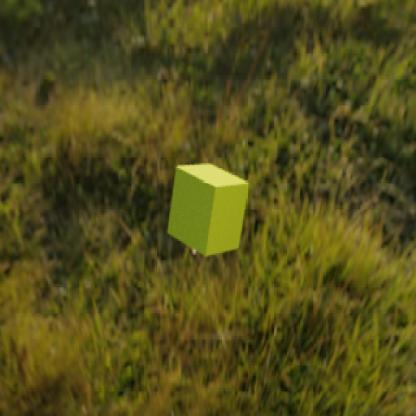cube: (166, 163, 249, 257)
